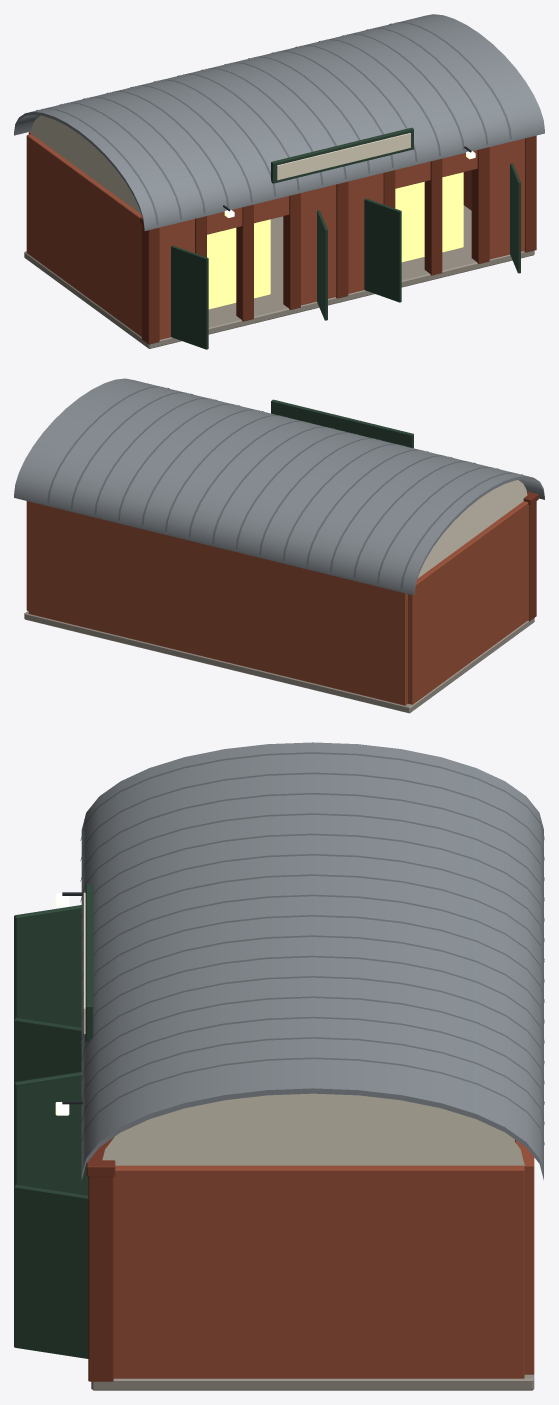
Rendered from galpon_coop.glb.
3 renders of one model, top to bottom at view 1: azimuth 30°, elevation 25°; view 2: azimuth 150°, elevation 25°; view 3: azimuth 270°, elevation 25°, orthographic. The views are drawn at different scales.
Parts seen in each view (by area): view 1: galpon_coop; view 2: galpon_coop; view 3: galpon_coop.
Boxes of the visible parts, <box> form: galpon_coop: <box>14,14,544,349</box>; galpon_coop: <box>14,378,544,713</box>; galpon_coop: <box>14,742,544,1390</box>.
Bounding box in the file's own units: 8.5 × 3.55 × 5.51.
